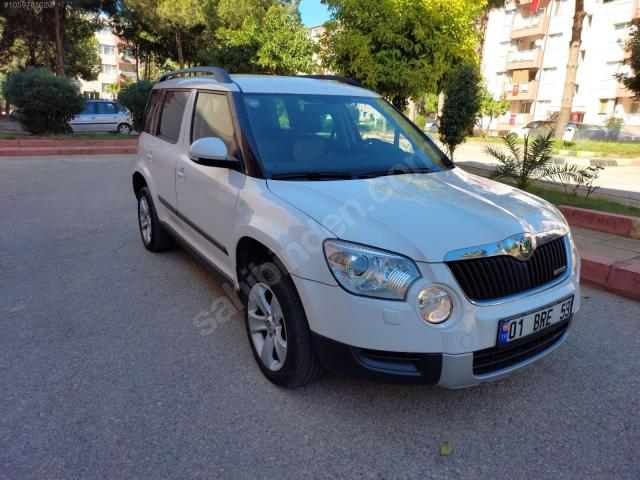plaka: (499, 296, 573, 344)
